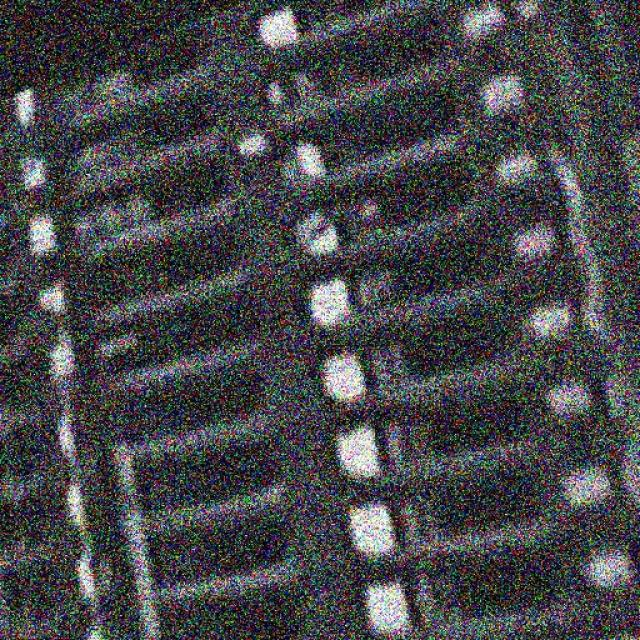igps: (59, 49, 559, 276), (82, 184, 594, 403), (75, 124, 567, 338), (89, 266, 602, 465), (103, 344, 625, 538), (115, 412, 632, 604), (48, 0, 518, 209), (101, 501, 639, 640)
